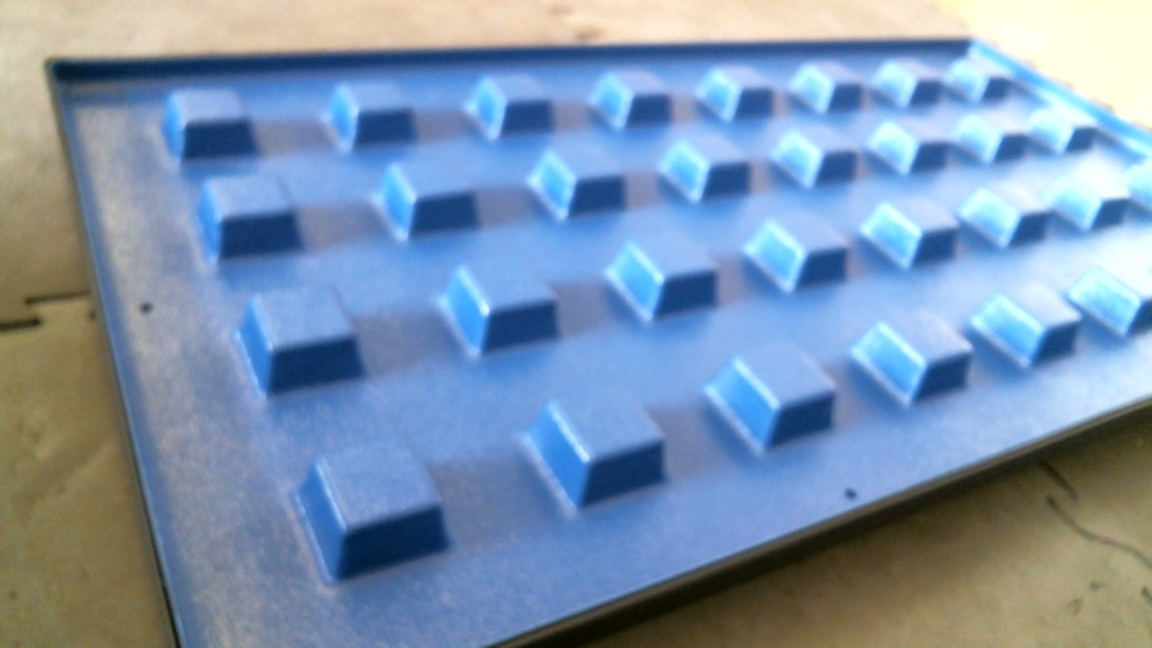blue_foundation: (42, 56, 1152, 624)
